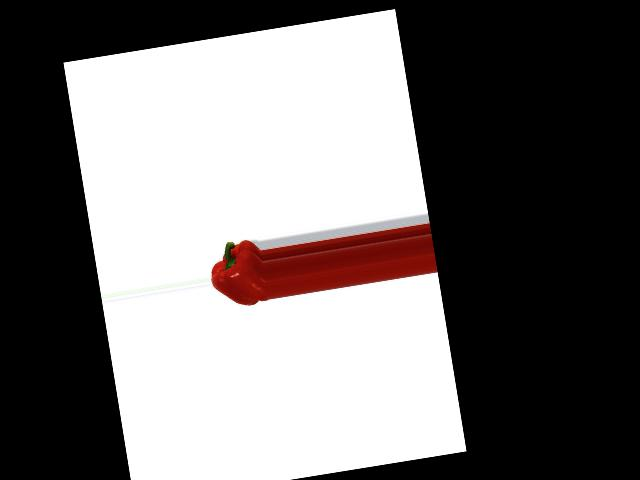bell_pepper: (204, 228, 270, 318)
